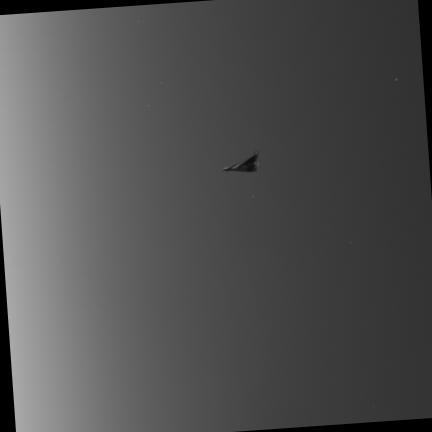Shahed: (222, 151, 258, 171)
